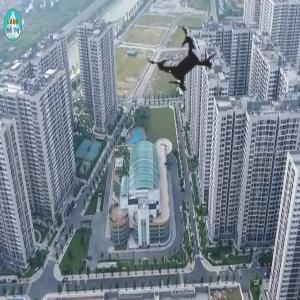drone: (126, 6, 241, 121)
